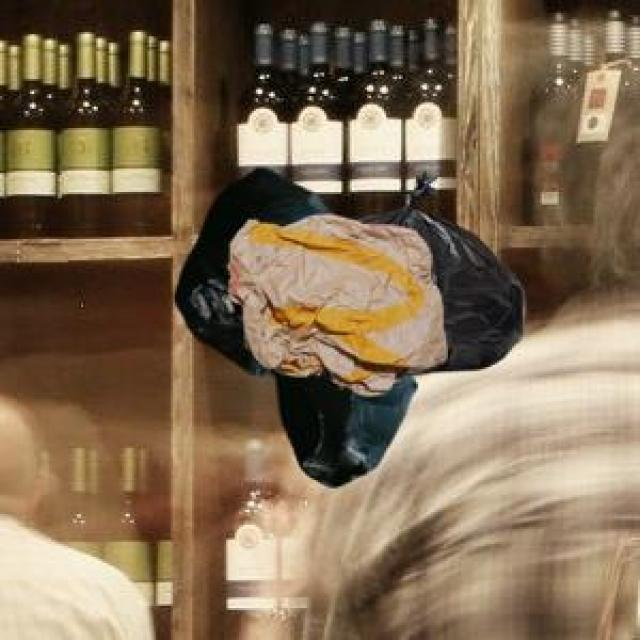miscellaneous trash: (171, 164, 412, 482), (352, 166, 523, 371)
paper: (224, 211, 442, 393)
